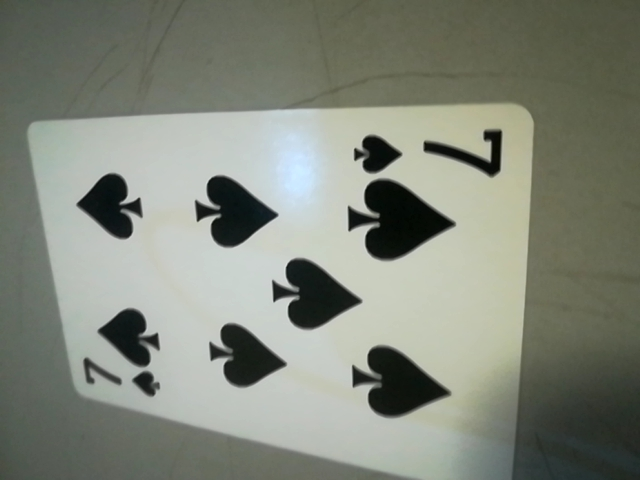ht 7: (346, 119, 517, 185)
